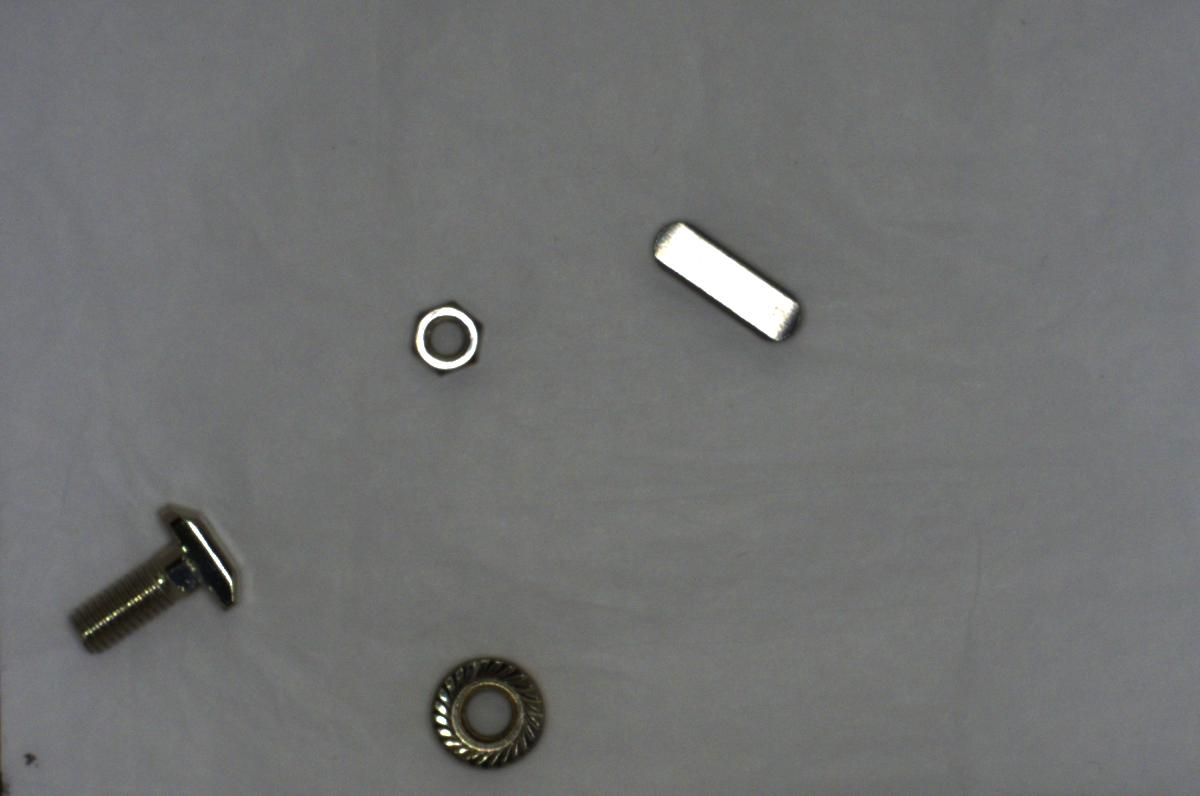Flange nut: (413, 645, 555, 776)
Hexagon nut: (398, 295, 494, 380)
Keybar: (652, 212, 802, 343)
T-shaped screw: (58, 492, 250, 656)
